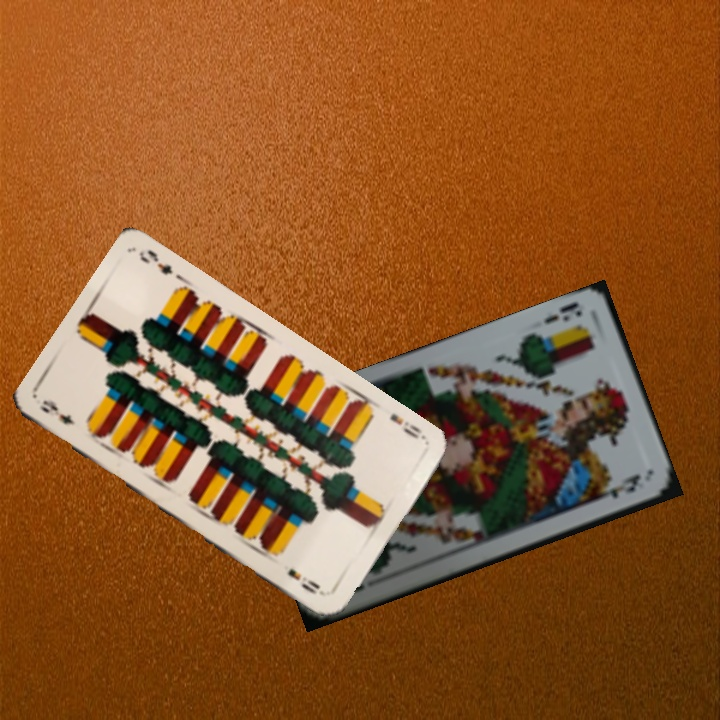E9: (385, 409, 430, 446), (36, 395, 78, 428)
EK: (539, 298, 585, 326)
